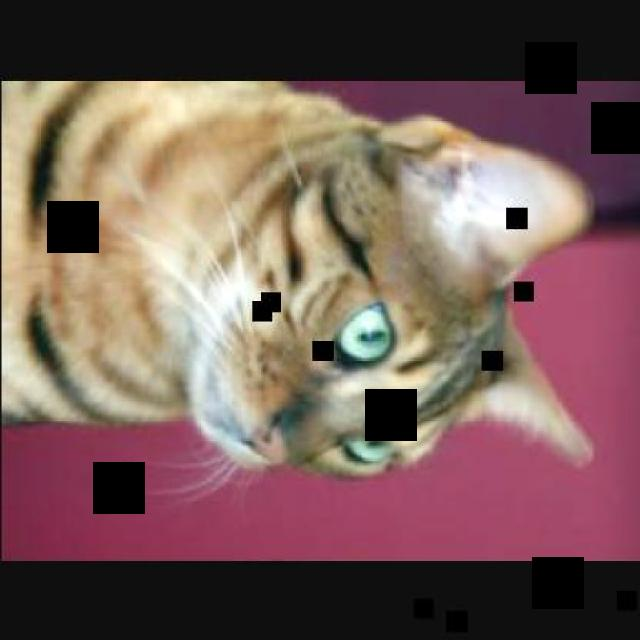unauthorized: (0, 79, 597, 506)
